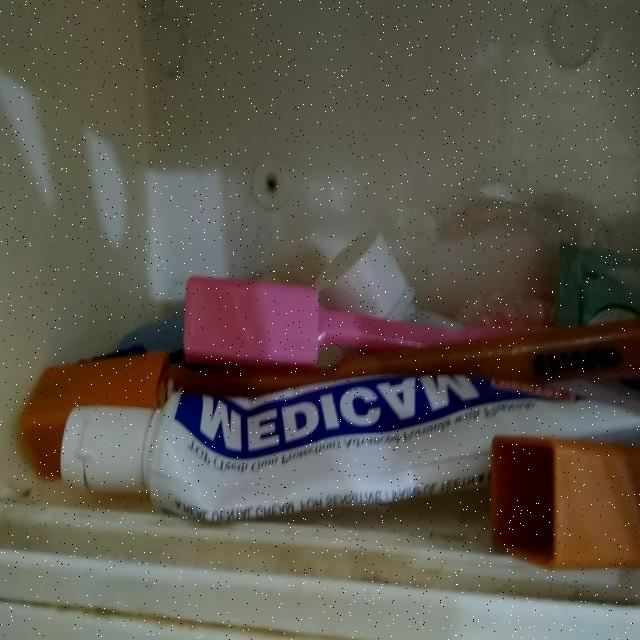Toothpaste: (50, 372, 636, 522)
